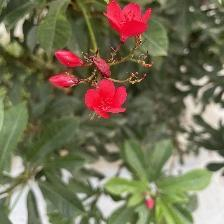jatropha: (103, 1, 154, 43), (85, 80, 131, 120)
